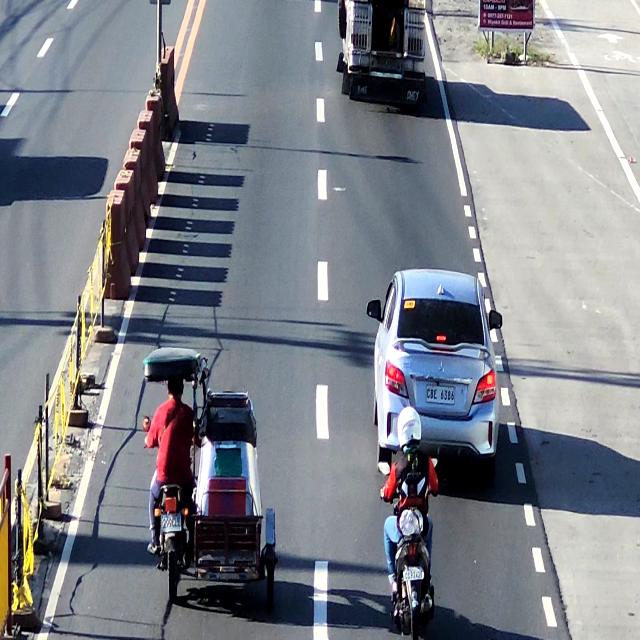Car: (378, 275, 497, 447)
Jeep: (336, 0, 425, 94)
License-Plate: (422, 378, 457, 407), (157, 512, 184, 539), (399, 560, 427, 582)
Motorcycle: (383, 413, 439, 640)
Tricycle: (138, 352, 281, 594)
